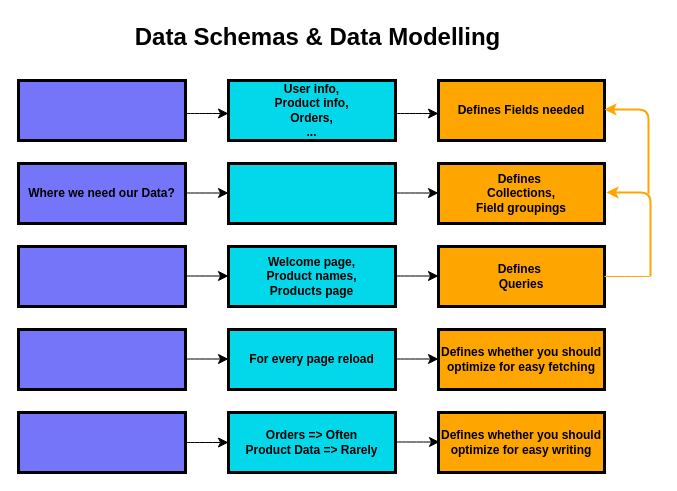
Some shapes in this 677 by 491 pixel diagram are drawn without their labels. Here are the shapes that lost their labels. From the top down, the box of each, then its label:
(16, 78, 186, 142): App need or generate?
(226, 162, 396, 224): Welcome page, Products List page, Orders page
(16, 244, 186, 308): Which kind of Data/Info want to display?
(16, 328, 186, 390): How often do I FETCH my data?
(16, 410, 186, 474): How often do I write/change my data?
